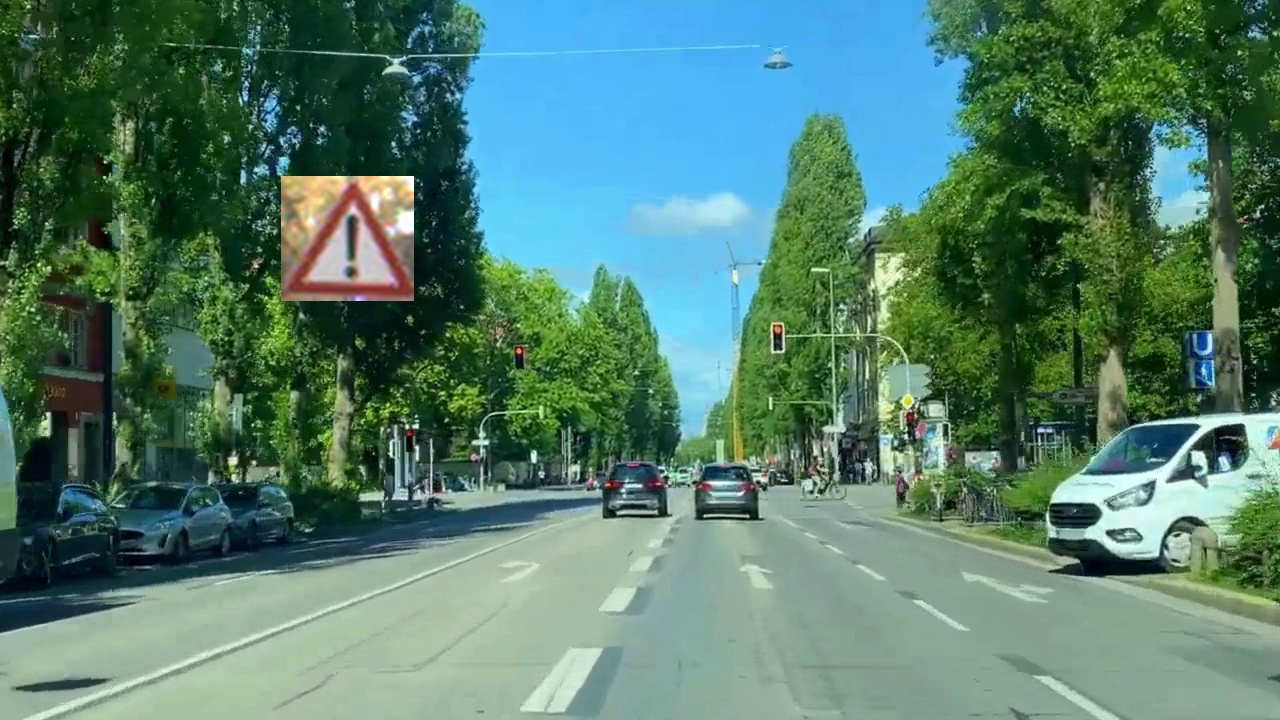Caution: (281, 176, 414, 301)
